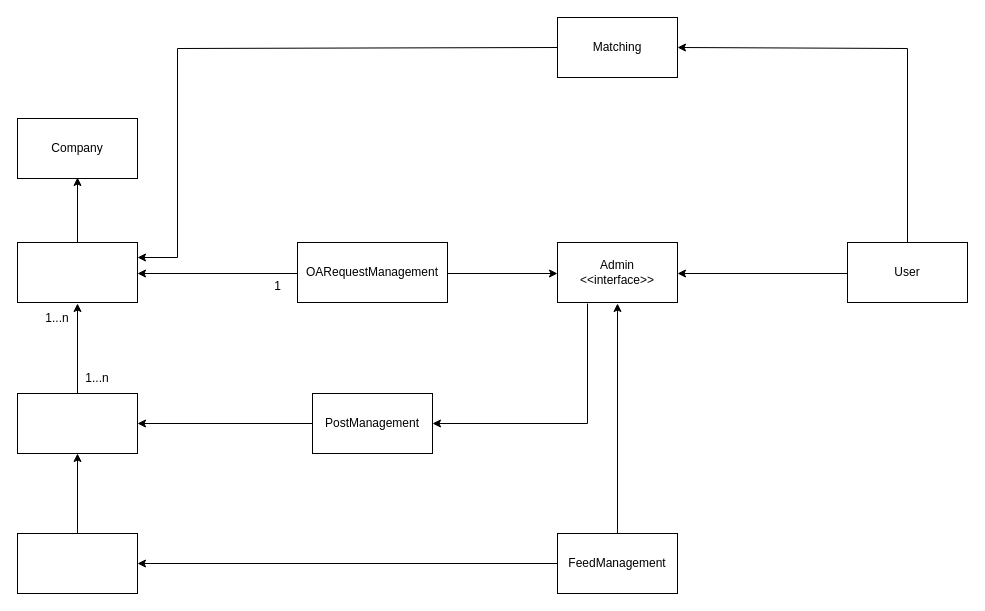
This 985x611 diagram has some shape labels left out. Each missing label, with the centre of its shape:
"Feed" belongs at (77,563).
"JobPosition" belongs at (77,272).
"Post" belongs at (77,423).
